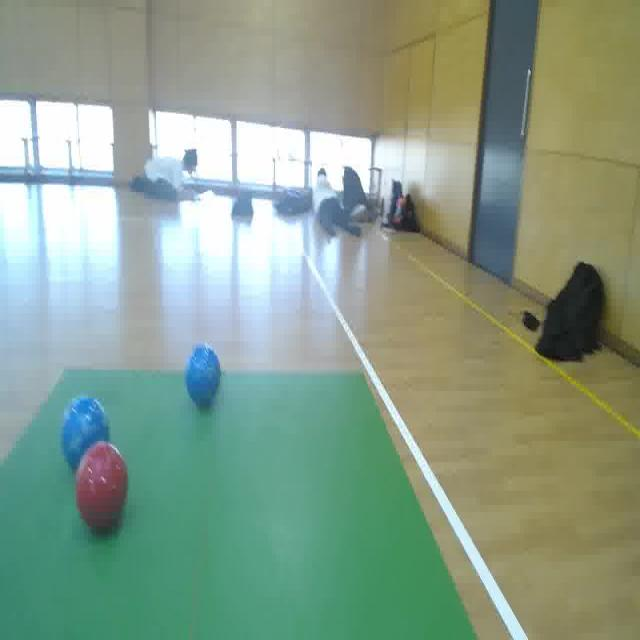blue_ball: (59, 392, 112, 471), (185, 342, 223, 410)
red_ball: (75, 439, 129, 535)
